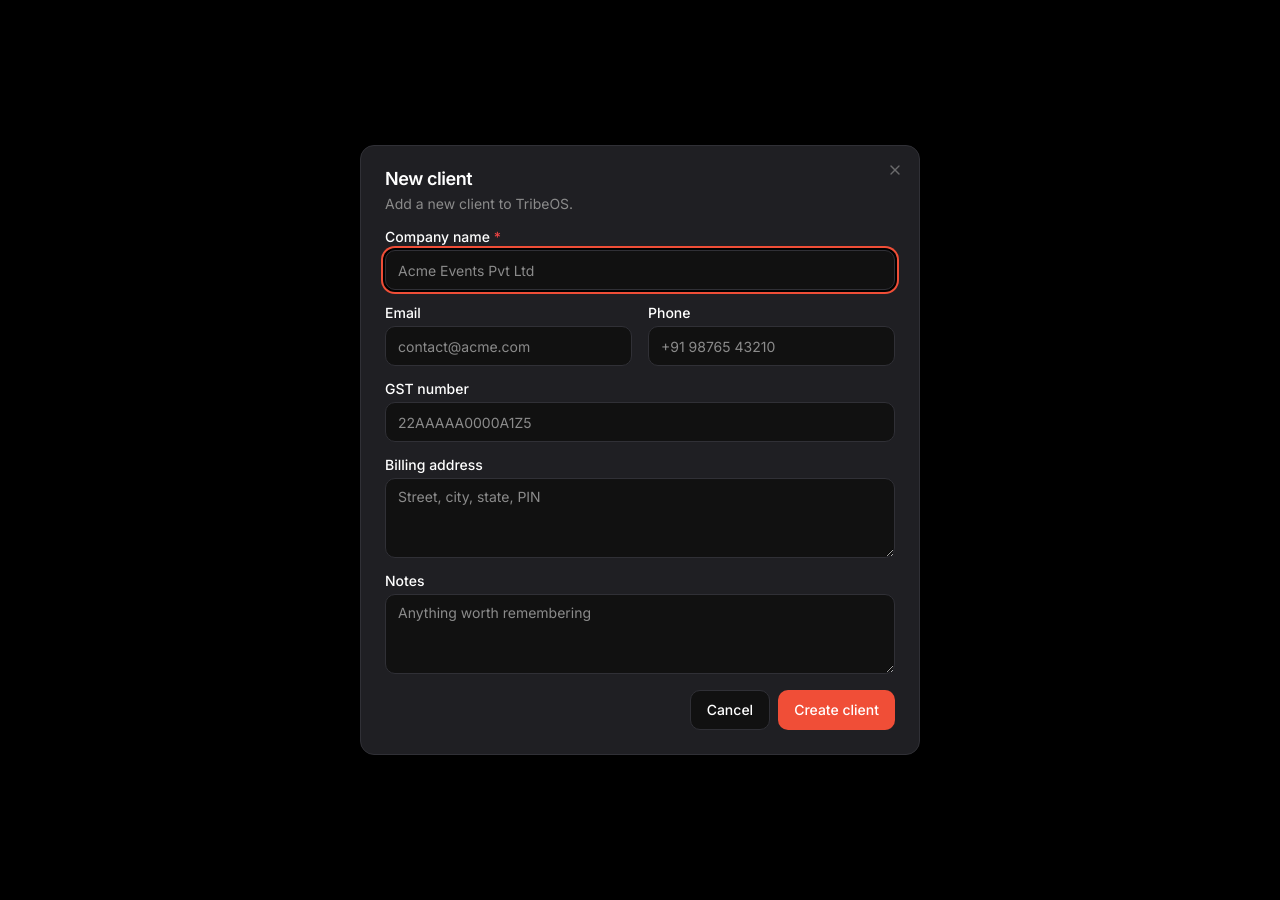
Test: clients feature › shows a validation error when company name is empty
The width and height of the screenshot is (1280, 900).
Click the button "Create client" at (837, 710), box [778, 690, 895, 730]
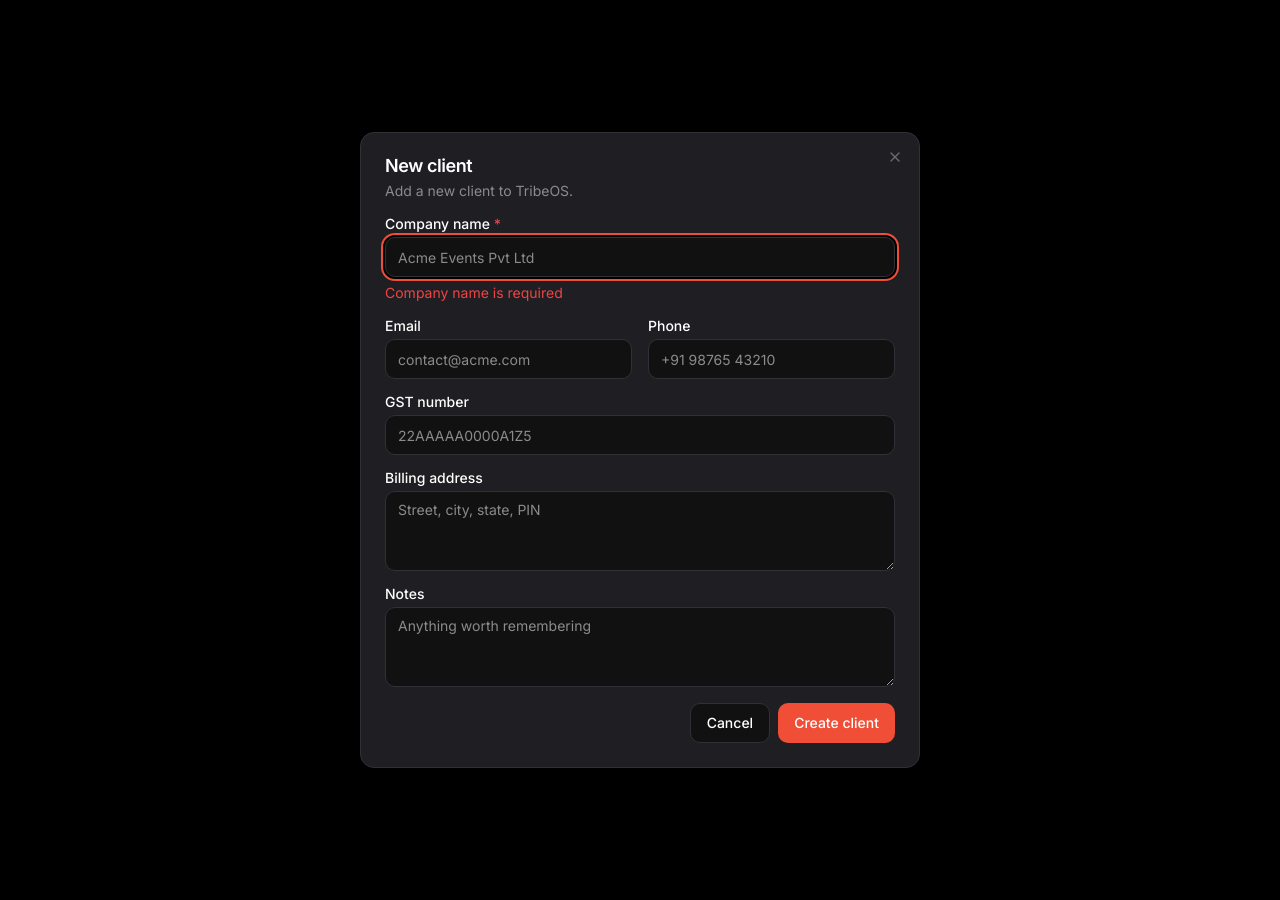
Expected: the text "Company name is required" is shown, [385, 284, 563, 301]
